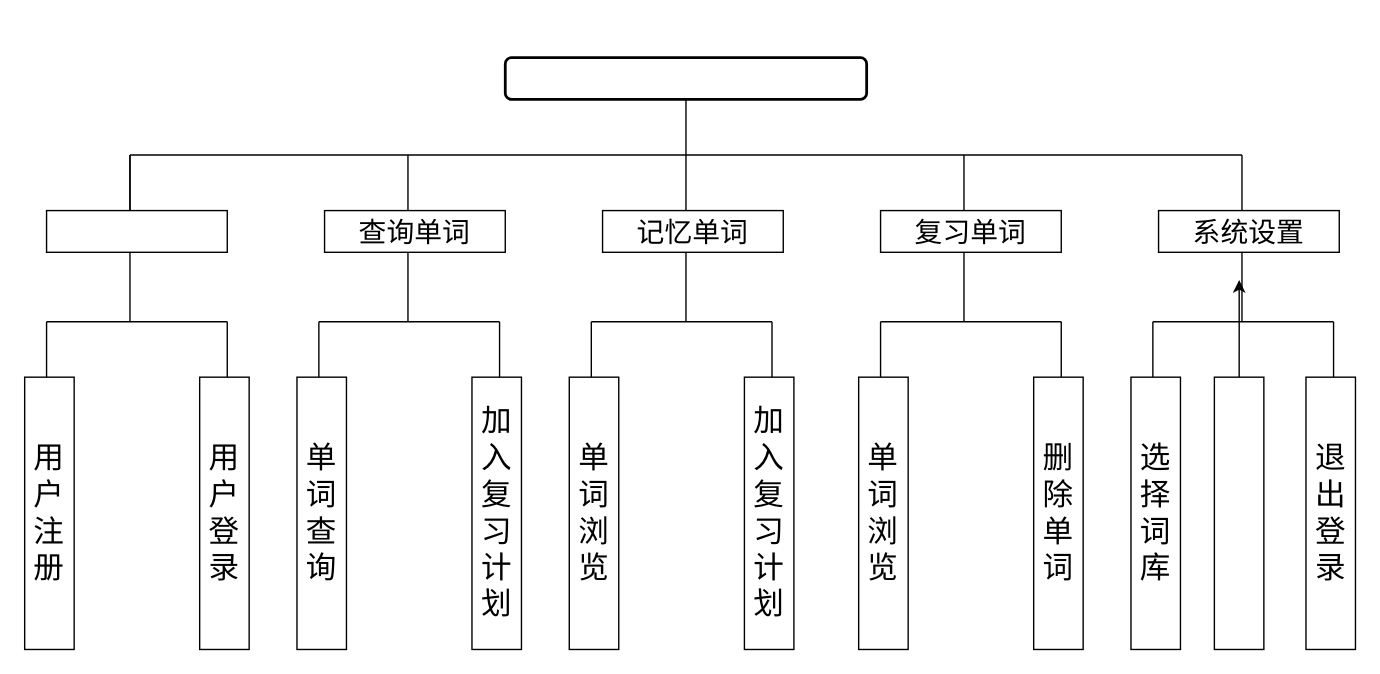
The diagram is 1380 pixels wide and 674 high, and some of its shapes have lost their labels. The shapes that lost their labels are listed below. From the top down, each one's box as (x1, y1, x2, y2) in pixels, then its label:
(503, 56, 867, 100): 大学英语词汇学习平台
(45, 209, 227, 252): 注册登录
(1213, 376, 1264, 649): 设置每日词汇量
